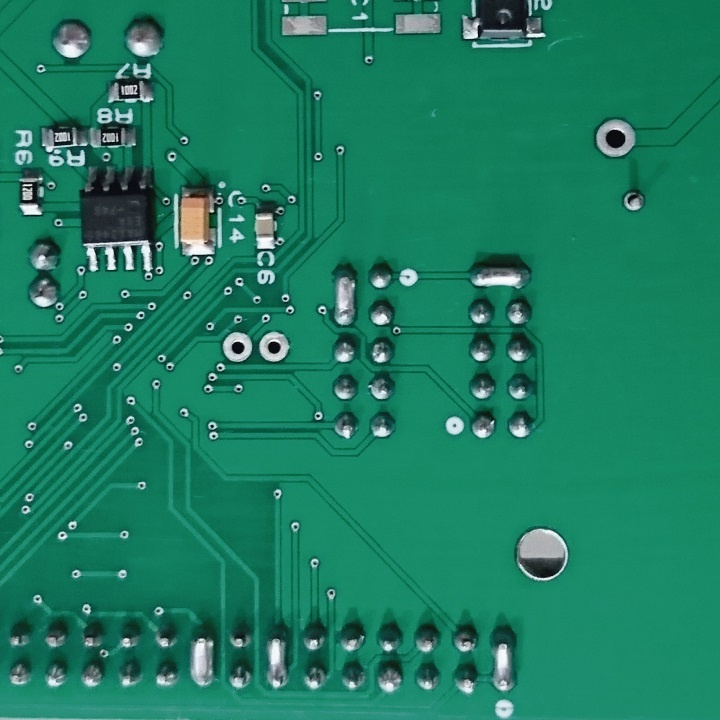F: (592, 115, 639, 160), (256, 327, 294, 366), (220, 328, 256, 366), (620, 184, 647, 215)
P: (487, 622, 524, 697), (261, 623, 296, 692), (467, 260, 534, 292), (330, 261, 361, 329), (189, 622, 219, 692)
